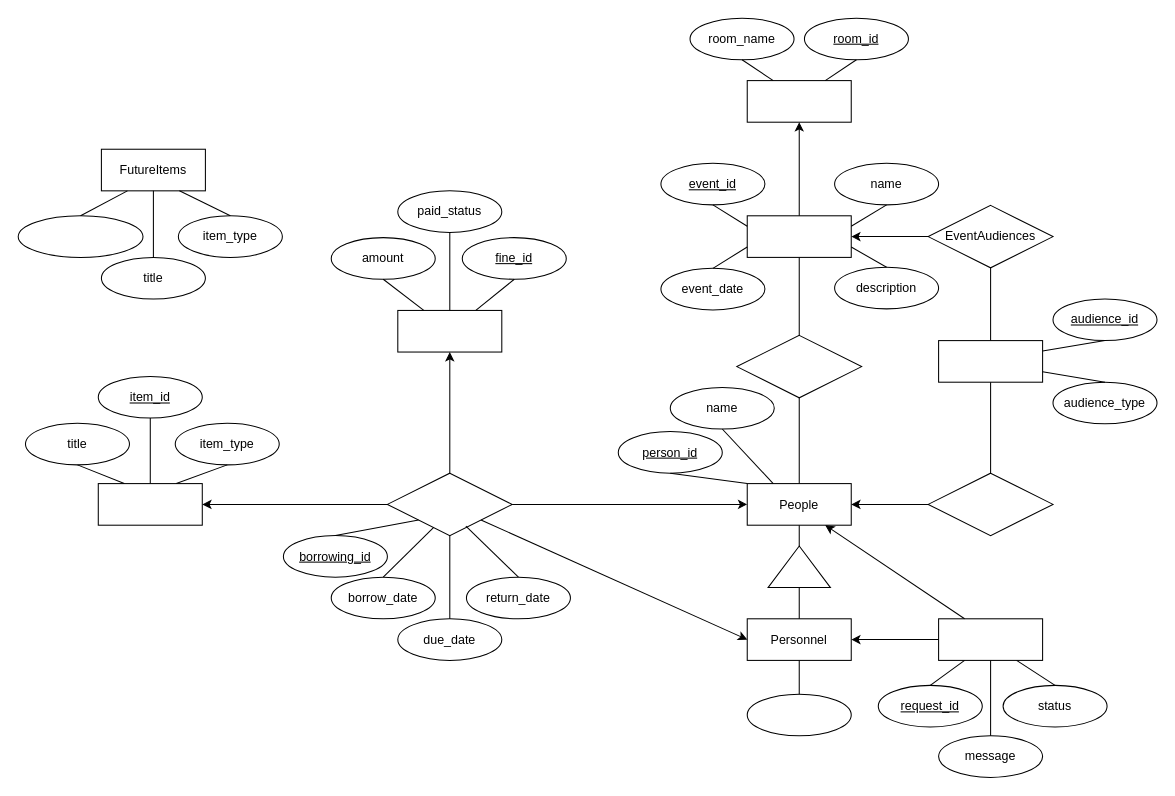
Some shapes in this 1175 by 796 pixel diagram are drawn without their labels. Here are the shapes that lost their labels. From the top down, the centre of each, then its label:
At point 798,101: "SocialRooms".
At point 80,236: "candidate_item_id".
At point 798,236: "Events".
At point 449,330: "Fines".
At point 799,366: "Attending".
At point 990,361: "Audiences".
At point 149,504: "Items".
At point 449,504: "Borrowings".
At point 990,504: "PersonAudiences".
At point 798,566: "isa".
At point 990,639: "HelpRequests".
At point 798,714: "role".
